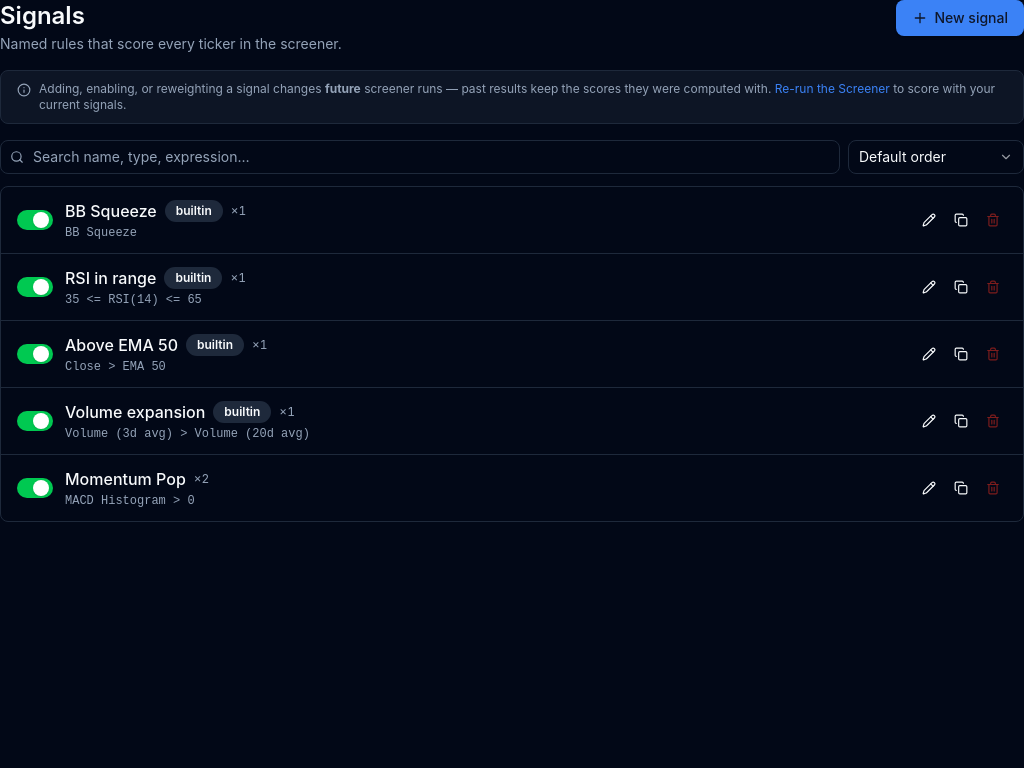
Test case: warns about the legacy Screener column when removing a builtin
Check: the text "Momentum Pop" is shown, box x1=65 y1=467 x2=186 y2=491
Step 1. Click the button named "remove bb squeeze" → (993, 220), box x1=979 y1=206 x2=1007 y2=234
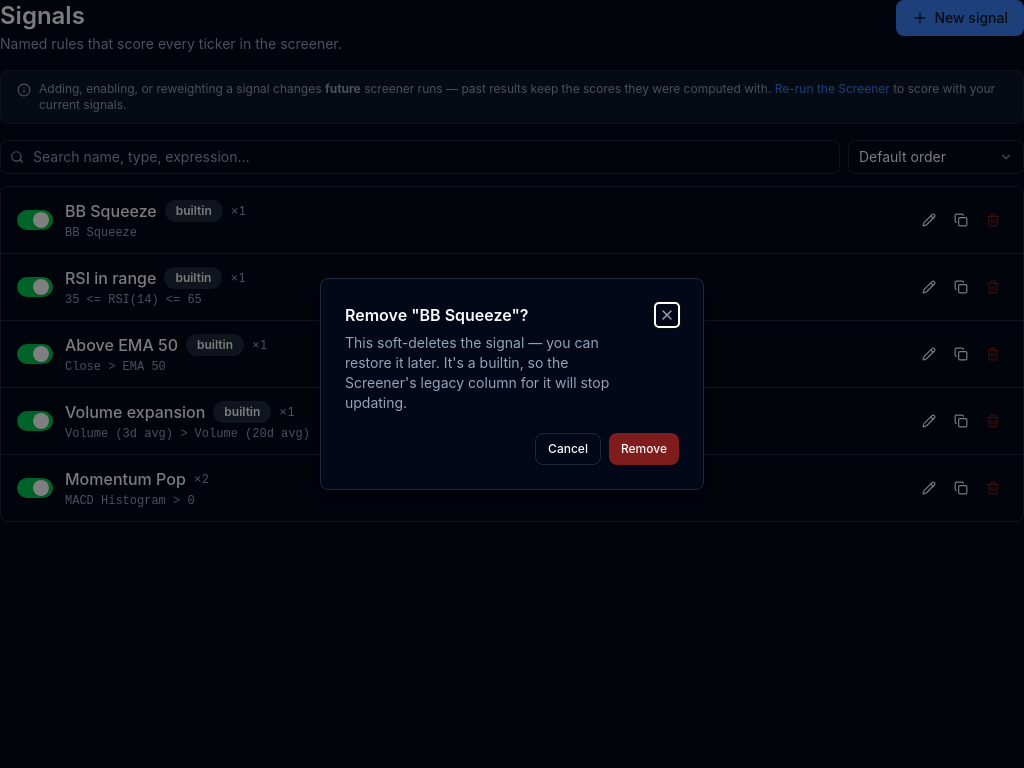
Check: the text "legacy column" is shown, box x1=345 y1=334 x2=609 y2=411
